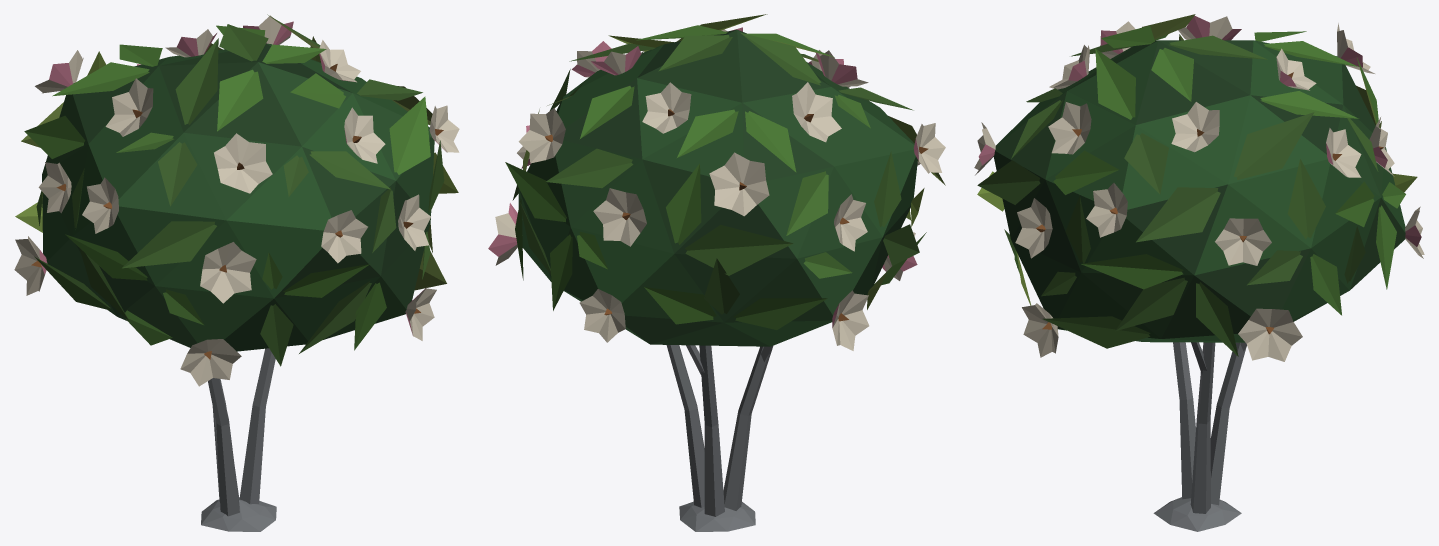
File: flowering-magnolia-dd76cb.glb
3 views of the same model, side by side, from view 1: azimuth 30°, elevation 25°; view 2: azimuth 150°, elevation 25°; view 3: azimuth 270°, elevation 25° (orthographic).
Visible parts, largest first — view 1: crown-foliage, stems; view 2: crown-foliage, stems; view 3: crown-foliage, stems.
Boxes of the visible parts, x1=… form: crown-foliage: x1=14, y1=14, x2=459, y2=386; stems: x1=201, y1=348, x2=276, y2=531; crown-foliage: x1=488, y1=14, x2=945, y2=350; stems: x1=666, y1=345, x2=773, y2=531; crown-foliage: x1=974, y1=14, x2=1424, y2=361; stems: x1=1153, y1=342, x2=1246, y2=531.
Size of the model in its own units: 4.9 by 6.1 by 5.09.
